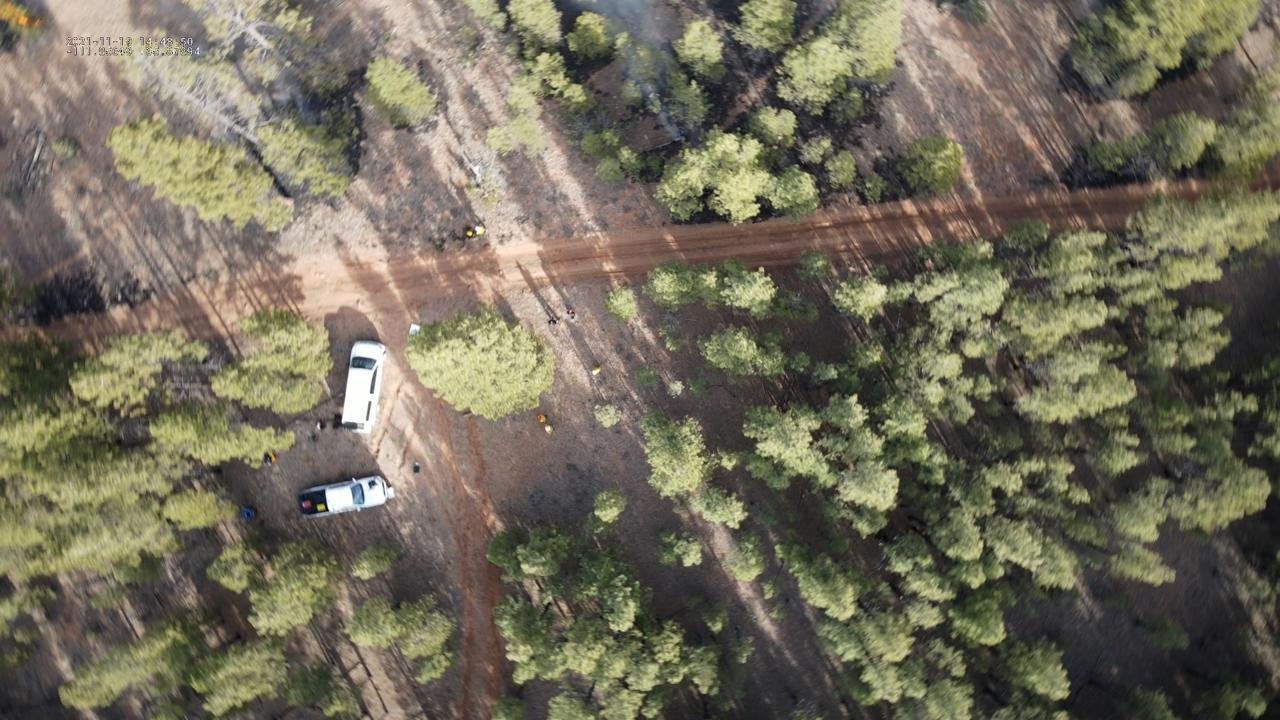smoke: (571, 0, 686, 145)
